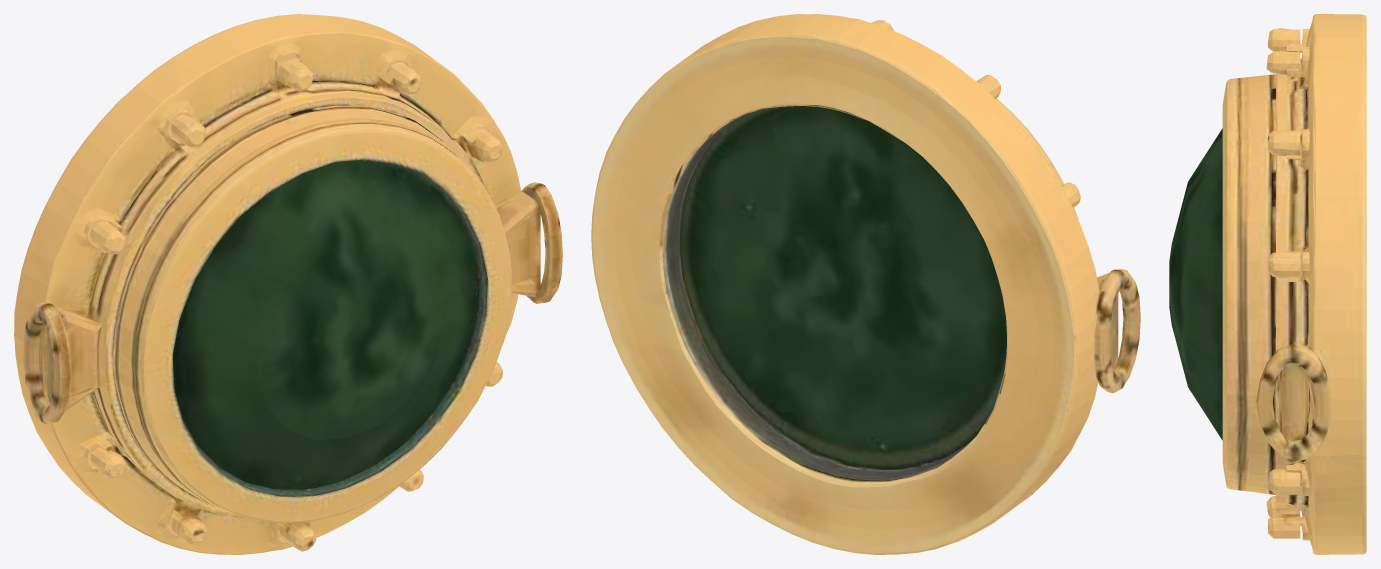
Rendered from ship_porthole.glb.
3 renders of one model, left to right at view 1: azimuth 30°, elevation 25°; view 2: azimuth 150°, elevation 25°; view 3: azimuth 270°, elevation 25°, orthographic. The views are drawn at different scales.
Parts seen in each view (by area): view 1: mesh_node; view 2: mesh_node; view 3: mesh_node.
Part boxes in pixels (bbox=[...]): mesh_node: bbox=[14, 14, 562, 554]; mesh_node: bbox=[591, 14, 1140, 554]; mesh_node: bbox=[1169, 14, 1366, 554].
Bounding box in the file's own units: 1.9 × 1.84 × 0.6653.
Materials: 1 (1 with a texture image).
